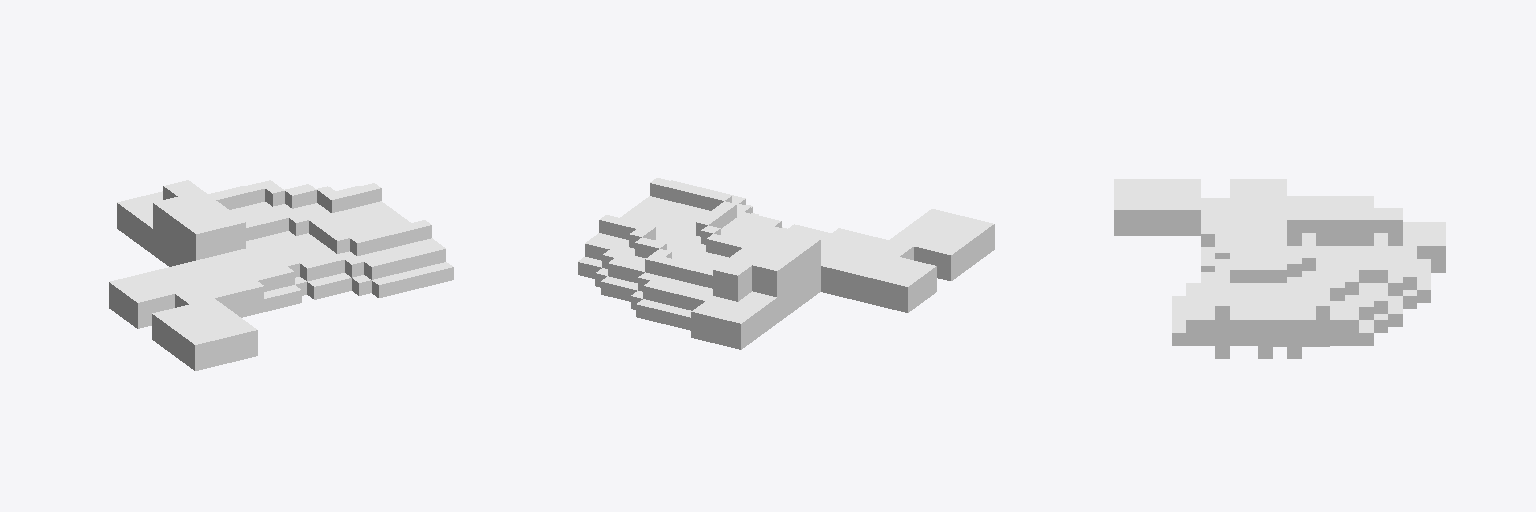
File: Extra-1-RedFighter_Wing1_L.obj
The picture shows the model from 3 angles: view 1: azimuth 30°, elevation 25°; view 2: azimuth 150°, elevation 25°; view 3: azimuth 270°, elevation 25°; orthographic projection.
Visible parts, largest first — view 1: RedFighter_Wing1_L; view 2: RedFighter_Wing1_L; view 3: RedFighter_Wing1_L.
Part boxes in pixels (left/top/right/bottom): RedFighter_Wing1_L: left=109, top=180, right=453, bottom=370; RedFighter_Wing1_L: left=578, top=178, right=994, bottom=349; RedFighter_Wing1_L: left=1114, top=179, right=1445, bottom=358.
Size of the model in its own units: 2.3 by 0.5 by 2.3.